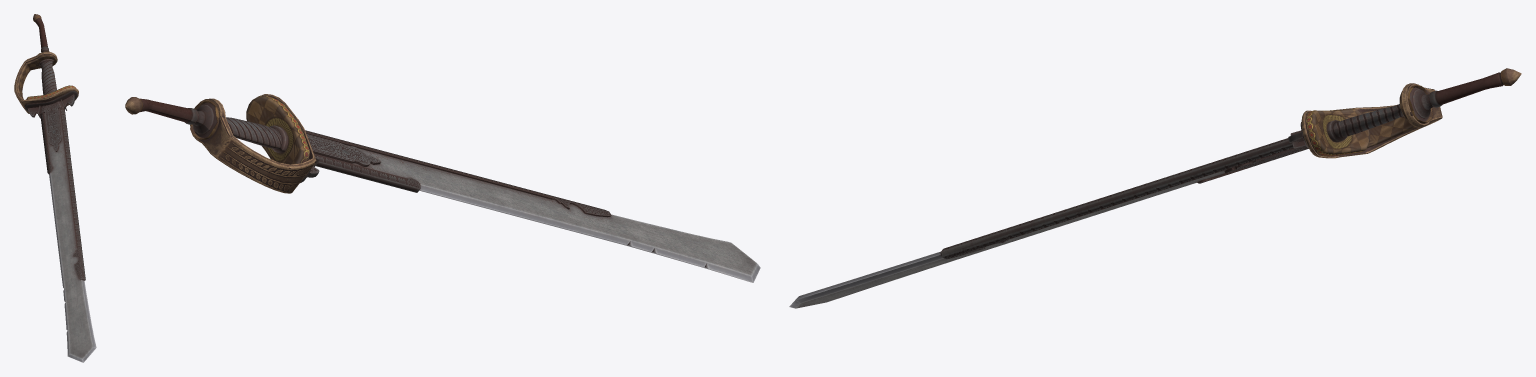
The model's file is khanda_sword.glb.
3 views of the same model, side by side, from view 1: azimuth 30°, elevation 25°; view 2: azimuth 150°, elevation 25°; view 3: azimuth 270°, elevation 25° (orthographic). The views are drawn at different scales.
Visible parts, largest first — view 1: sm_khanda; view 2: sm_khanda; view 3: sm_khanda.
Part boxes in pixels (x1=…): sm_khanda: x1=14, y1=14, x2=96, y2=362; sm_khanda: x1=125, y1=94, x2=760, y2=282; sm_khanda: x1=789, y1=68, x2=1521, y2=308.
Size of the model in its own units: 0.599 by 0.7338 by 1.32.
Materials: 1 (1 with a texture image).
